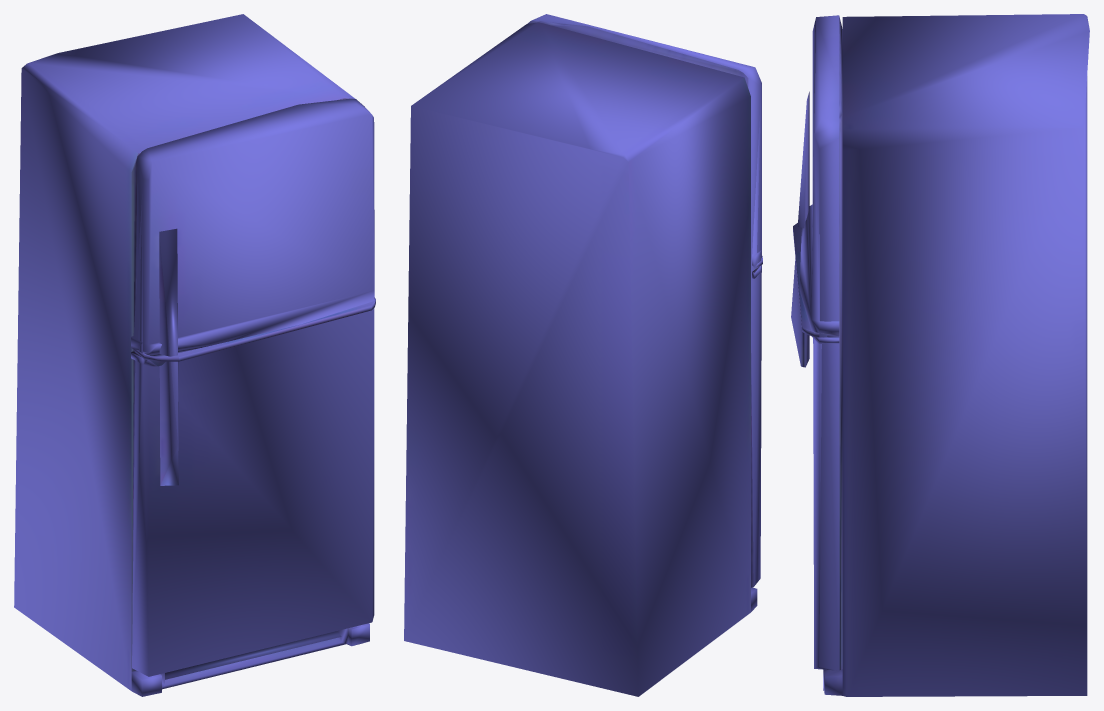
Rendered from model.progressive.glb.
The picture shows the model from 3 angles, left to right: view 1: azimuth 30°, elevation 25°; view 2: azimuth 150°, elevation 25°; view 3: azimuth 270°, elevation 25°; orthographic projection. The views are drawn at different scales.
Parts seen in each view (by area): view 1: material; view 2: material; view 3: material.
Part boxes in pixels (x1,y1,x2,y2): material: (14, 14, 375, 696); material: (404, 14, 762, 696); material: (791, 14, 1089, 696).
Size of the model in its own units: 0.8494 by 1.88 by 0.8845.
1 material, 1 textured.
